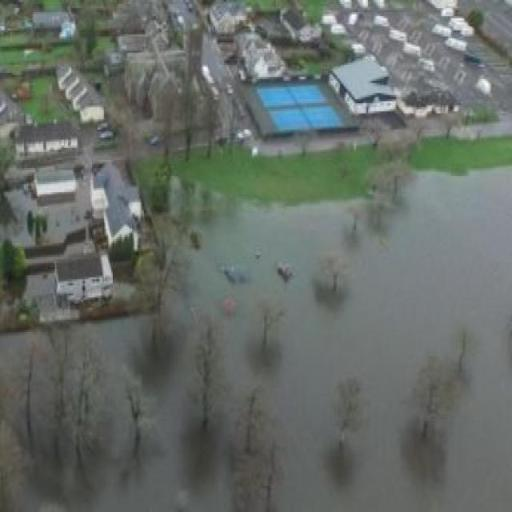flood: (19, 168, 512, 512), (0, 333, 27, 382)
house: (48, 239, 114, 311), (330, 59, 400, 117), (58, 67, 108, 119), (18, 122, 80, 160), (30, 162, 82, 204), (280, 7, 307, 38)
